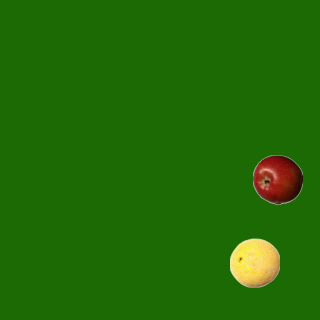Apple Braeburn: (252, 154, 302, 204)
Cantaloupe 1: (229, 237, 279, 287)
